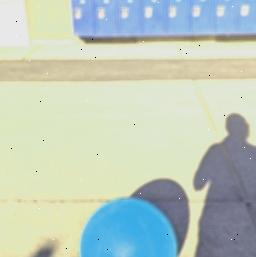algae: (75, 194, 179, 257)
